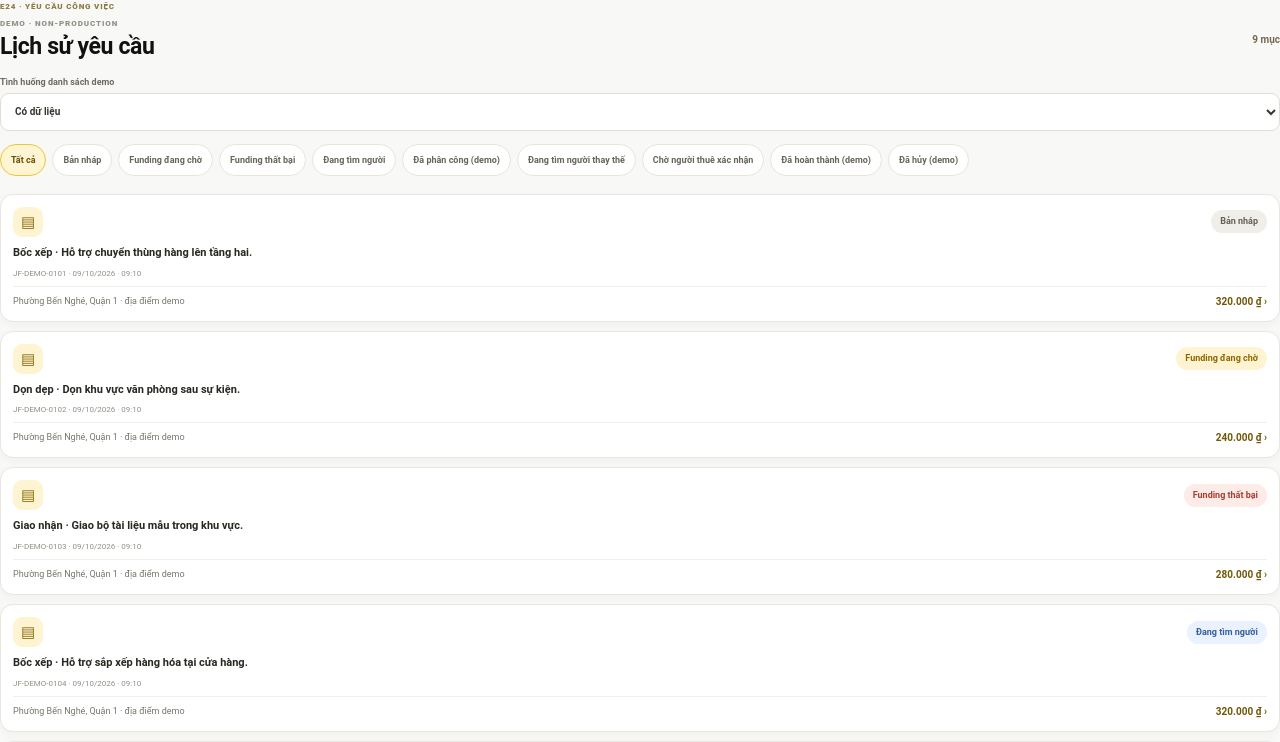
it: Employer request lifecycle demo › offers deterministic empty, loading, error and offline history states
Select "Rỗng" in the dropdown labelled "Tình huống danh sách demo" at (640, 112), box [0, 93, 1279, 131]
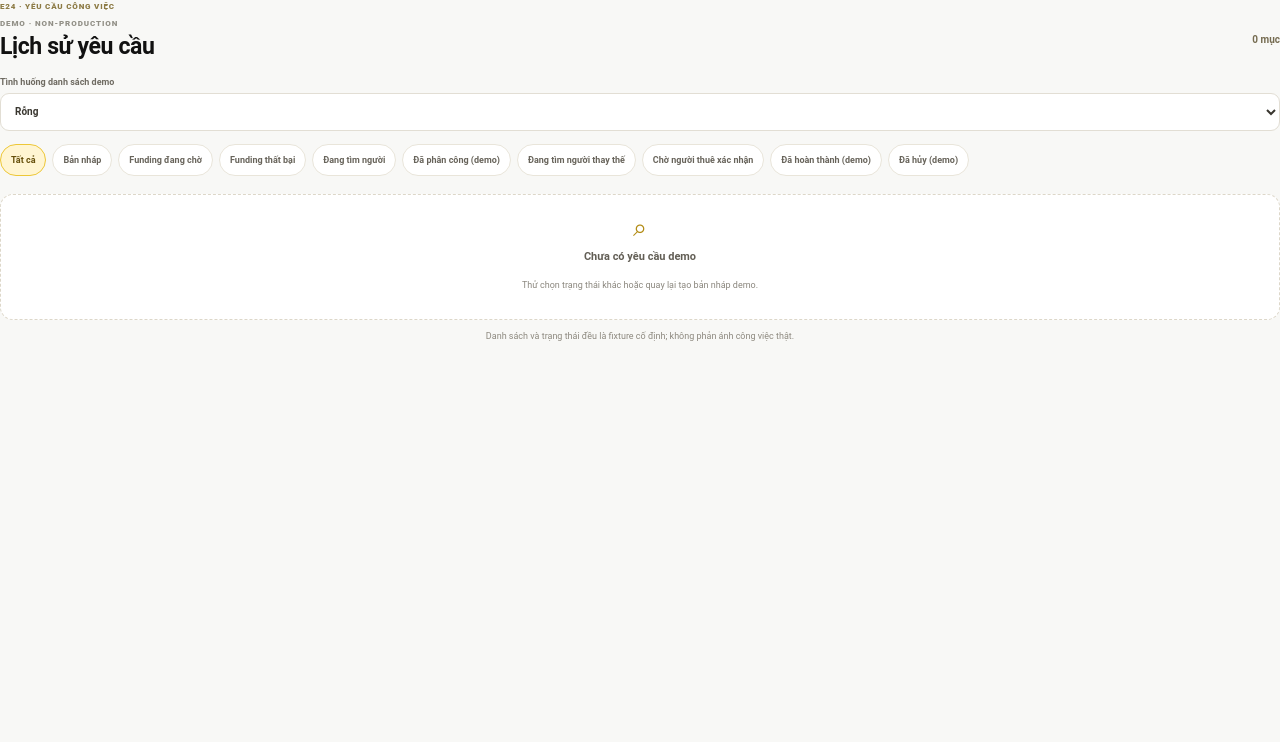
Expected: the message shows "Chưa có yêu cầu demo", [584, 250, 696, 263]
Select "Đang tải" in the dropdown labelled "Tình huống danh sách demo" at (640, 112), box [0, 93, 1279, 131]
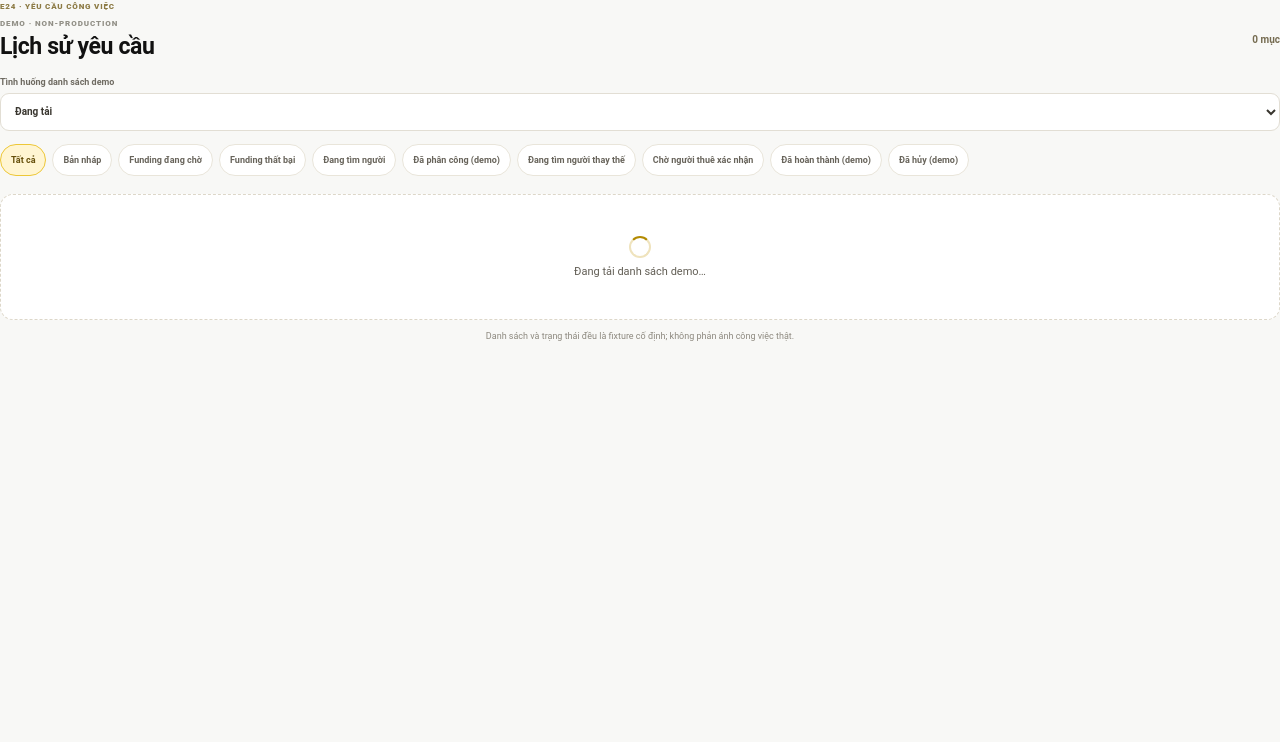
Expected: the message shows "Đang tải danh sách demo", [574, 265, 706, 278]
Select "Lỗi" in the dropdown labelled "Tình huống danh sách demo" at (640, 112), box [0, 93, 1279, 131]
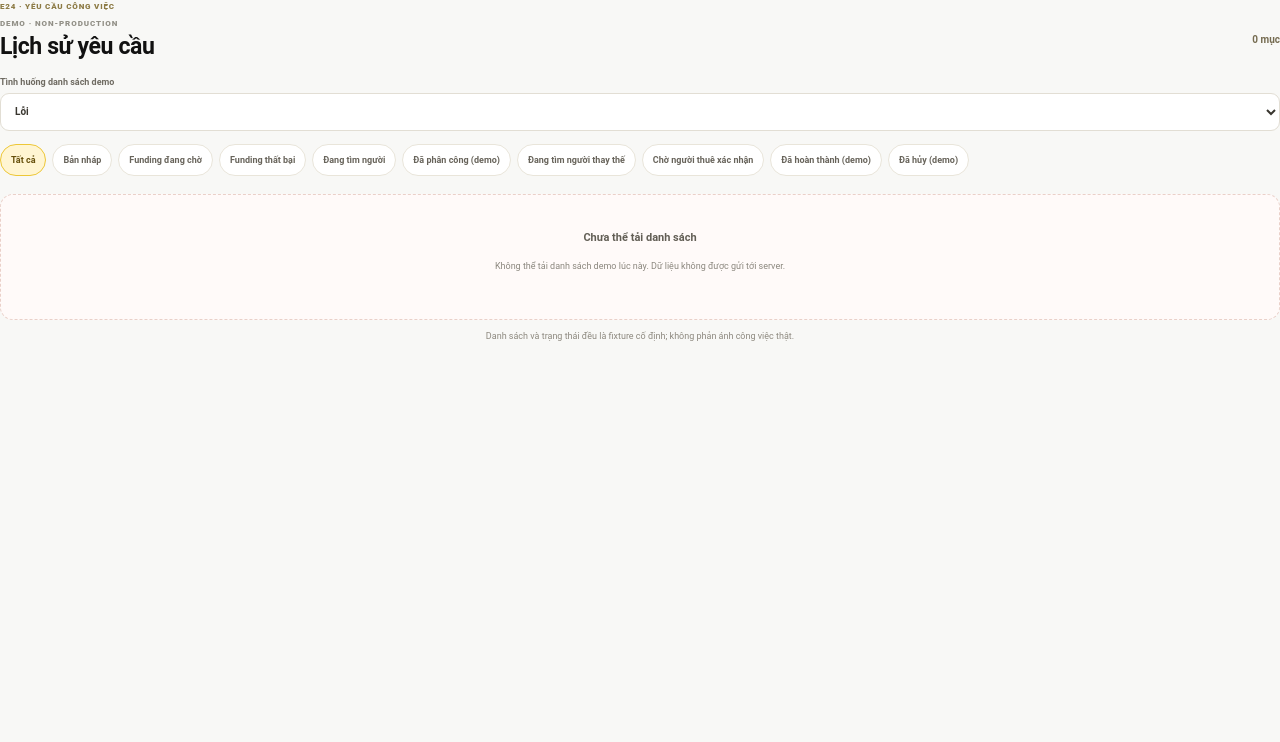
Expected: the message shows "Chưa thể tải danh sách", [583, 231, 697, 244]
Select "Ngoại tuyến" in the dropdown labelled "Tình huống danh sách demo" at (640, 112), box [0, 93, 1279, 131]
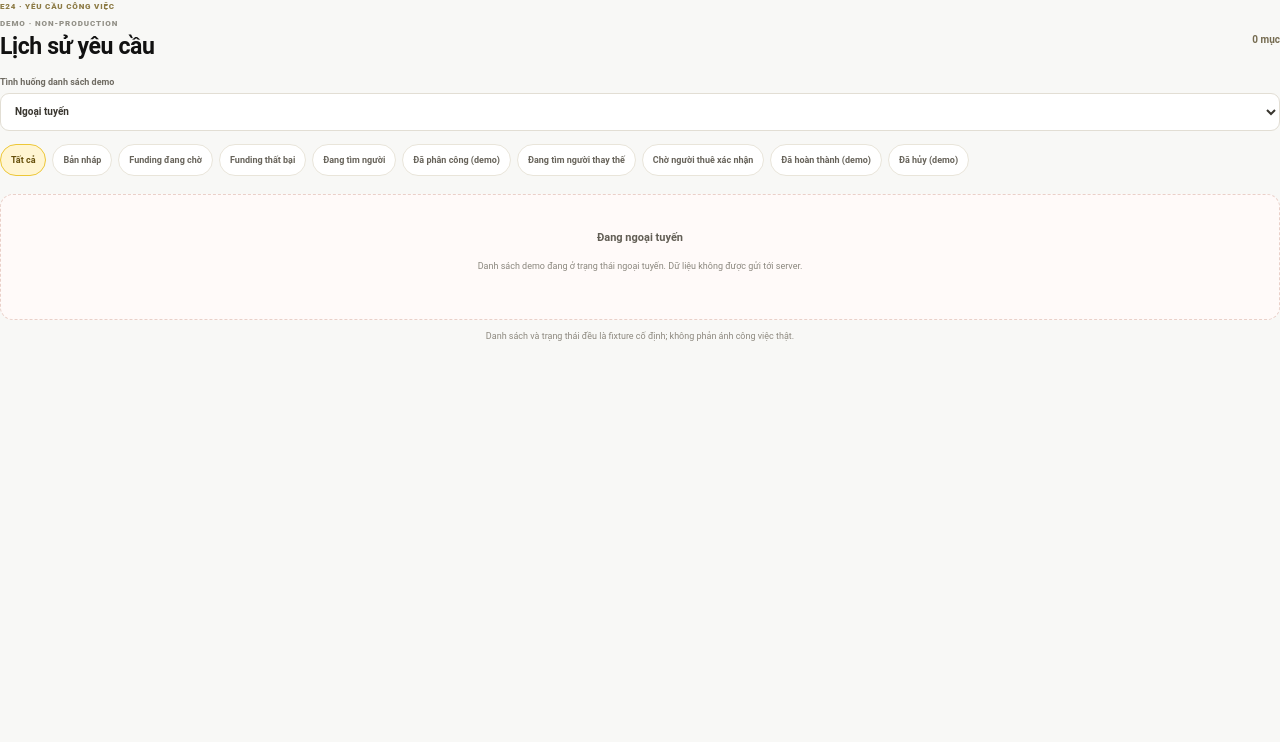
Expected: the message shows "Đang ngoại tuyến", [597, 231, 683, 244]
